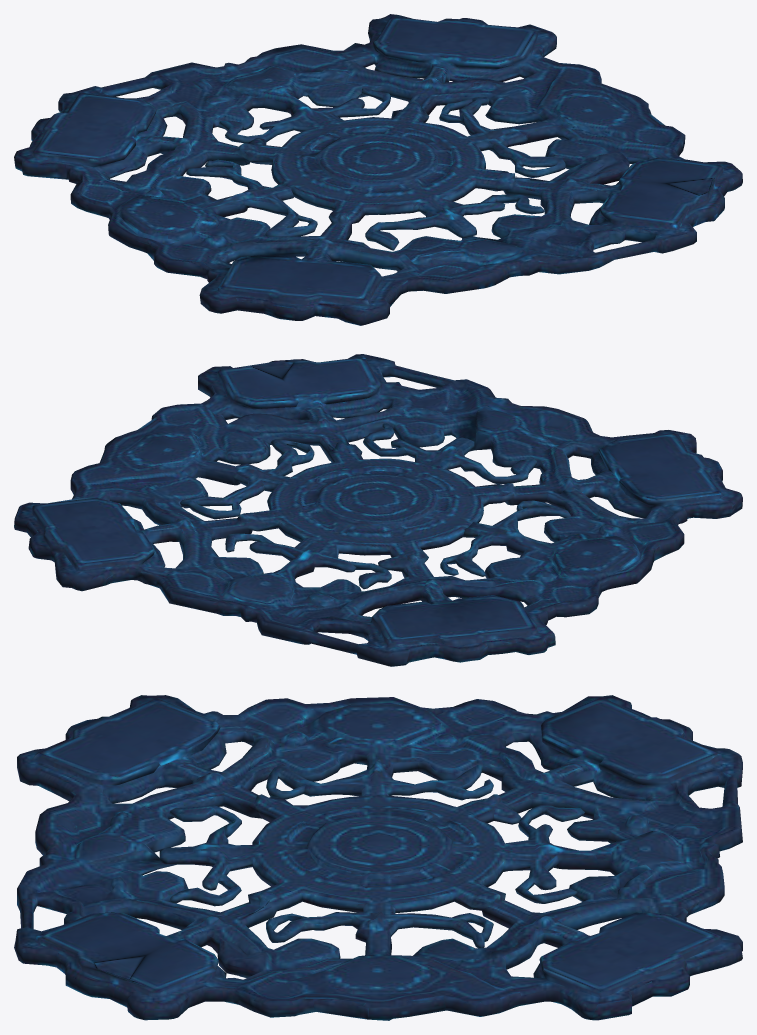
3 views of the same model, one above another, from view 1: azimuth 30°, elevation 25°; view 2: azimuth 150°, elevation 25°; view 3: azimuth 270°, elevation 25° (orthographic). The views are drawn at different scales.
Size of the model in its own units: 1.91 by 0.0705 by 1.88.
Materials: 1 (1 with a texture image).
